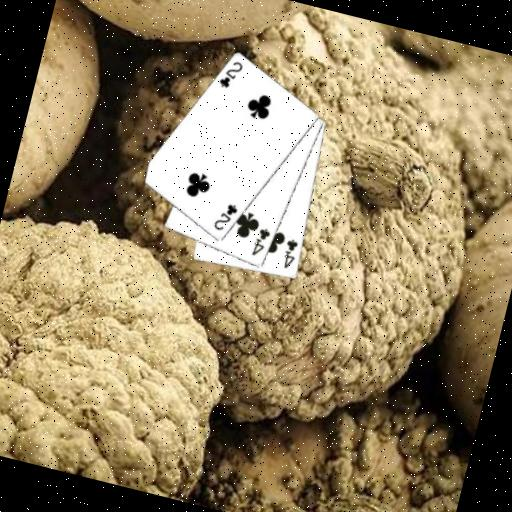2C: (215, 55, 246, 93), (210, 199, 241, 236)
4C: (248, 224, 273, 260), (278, 235, 301, 272)
